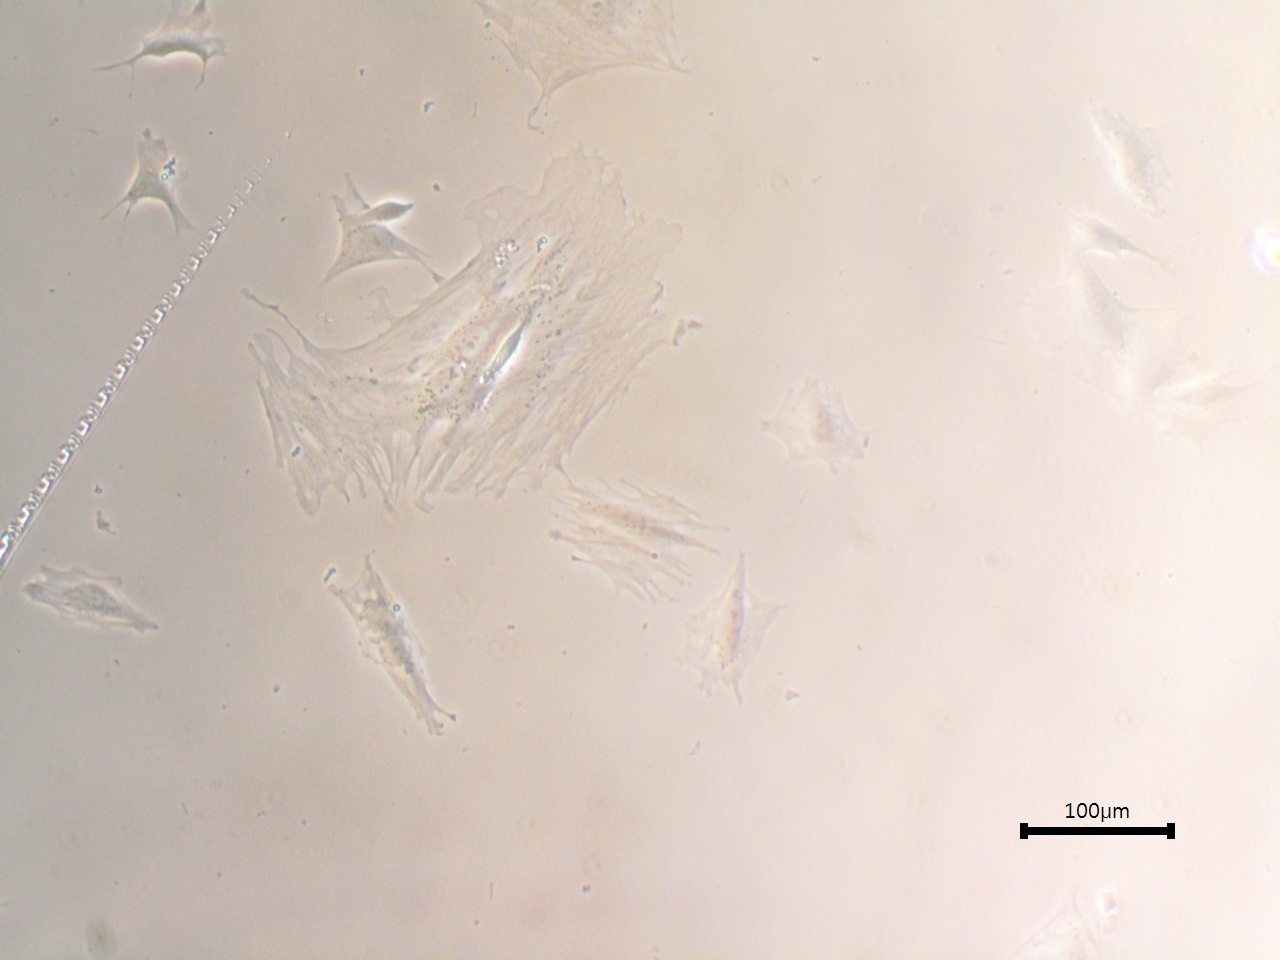large-spread: (255, 156, 673, 529)
medium-polygonal: (293, 544, 451, 756)
medium-spread: (669, 531, 804, 721), (529, 465, 714, 598), (737, 367, 872, 494), (1, 553, 168, 646), (94, 14, 255, 101), (316, 176, 424, 287), (111, 123, 185, 248)
